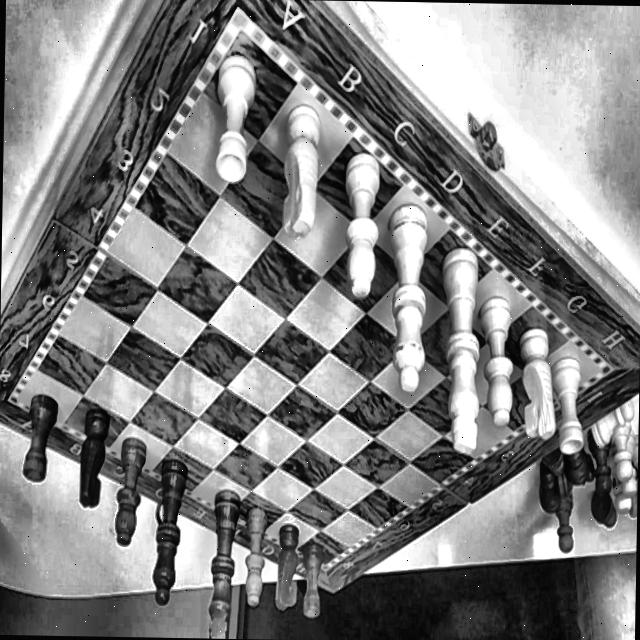black-bishop: (109, 422, 152, 556), (239, 492, 271, 612)
black-king: (202, 473, 242, 639)
black-knight: (71, 404, 108, 508), (270, 518, 304, 612)
black-queen: (150, 436, 190, 611)
black-rook: (17, 360, 65, 490), (299, 538, 333, 628)
white-bishop: (338, 118, 388, 315), (483, 272, 522, 428)
white-king: (442, 218, 487, 476)
white-knight: (280, 83, 327, 250), (521, 316, 557, 448)
white-queen: (384, 166, 442, 404)
white-rook: (203, 51, 267, 192), (554, 346, 590, 455)
